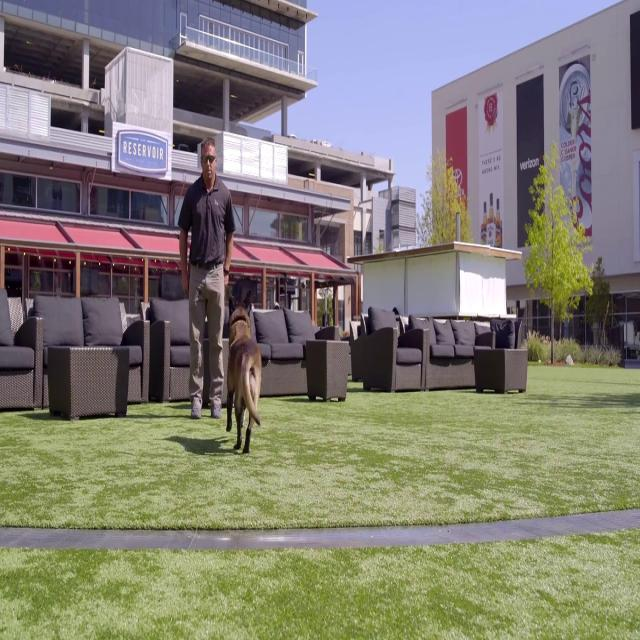Unleashed_Dog: (198, 292, 262, 456)
